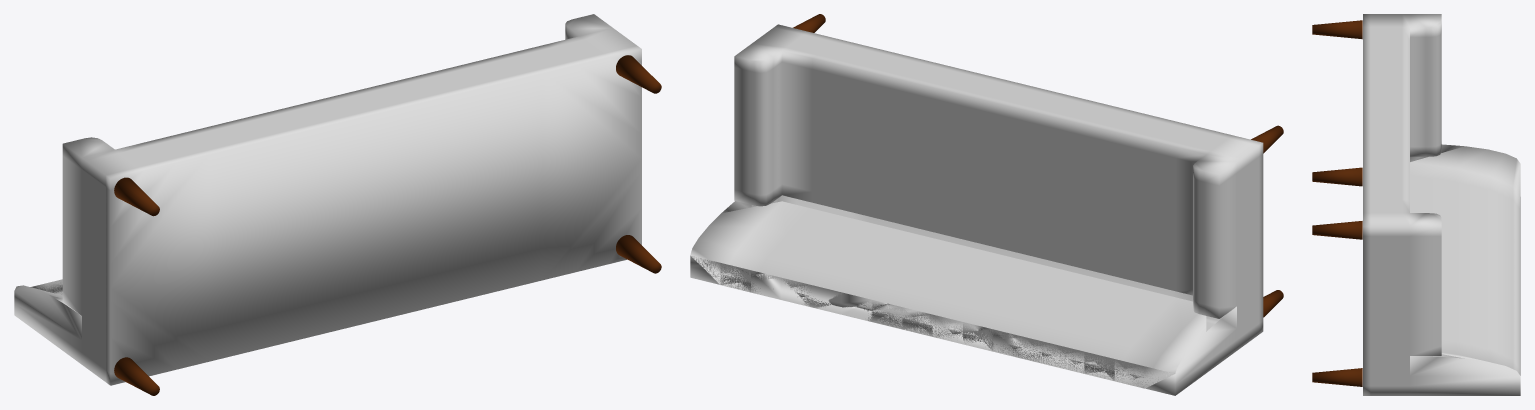
The model's file is couch.dae.
The picture shows the model from 3 angles, left to right: view 1: azimuth 30°, elevation 25°; view 2: azimuth 150°, elevation 25°; view 3: azimuth 270°, elevation 25°; orthographic projection. The views are drawn at different scales.
Parts seen in each view (by area): view 1: Couch; view 2: Couch; view 3: Couch.
Boxes of the visible parts, bbox=[...] form: Couch: bbox=[14, 14, 661, 395]; Couch: bbox=[690, 14, 1283, 395]; Couch: bbox=[1312, 14, 1520, 395].
Bounding box in the file's own units: 2 × 0.8284 × 0.7454.
